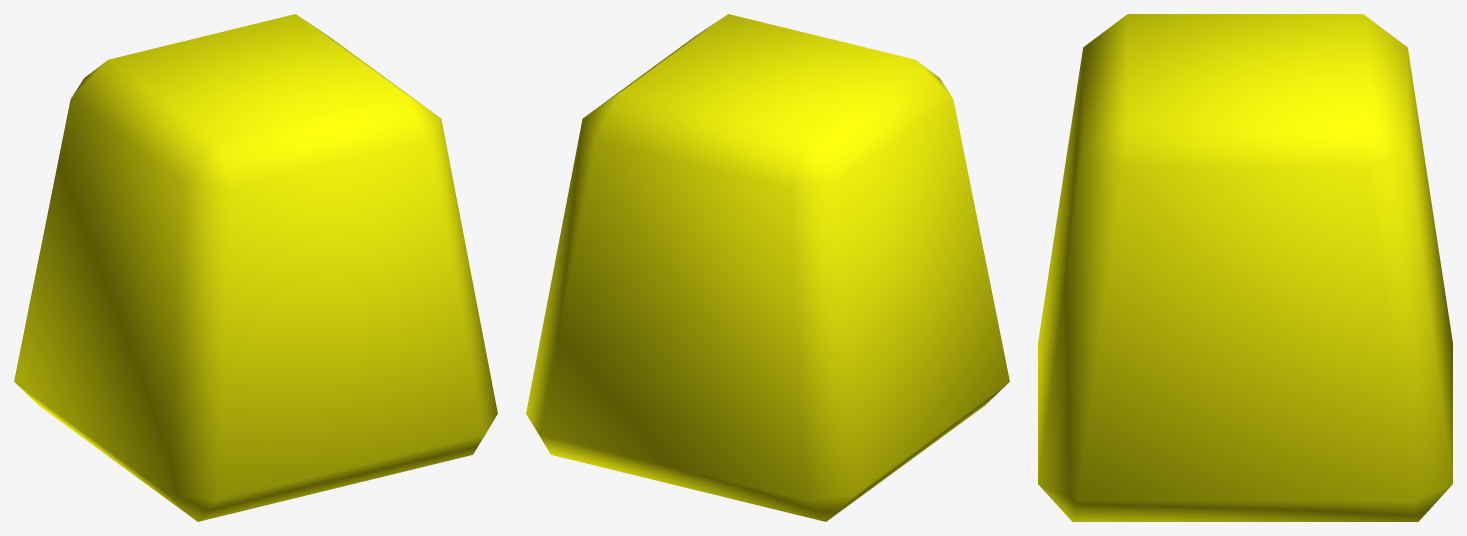
The model's file is kaykit-rock-2-b-color-1.glb.
3 views of the same model, side by side, from view 1: azimuth 30°, elevation 25°; view 2: azimuth 150°, elevation 25°; view 3: azimuth 270°, elevation 25° (orthographic). The views are drawn at different scales.
Parts seen in each view (by area): view 1: Rock_2_B_Color1; view 2: Rock_2_B_Color1; view 3: Rock_2_B_Color1.
Boxes of the visible parts, x1,y1,x2,y2 form: Rock_2_B_Color1: (14,14,497,521); Rock_2_B_Color1: (526,14,1009,521); Rock_2_B_Color1: (1038,14,1452,521).
Size of the model in its own units: 0.6301 by 0.6455 by 0.6301.
